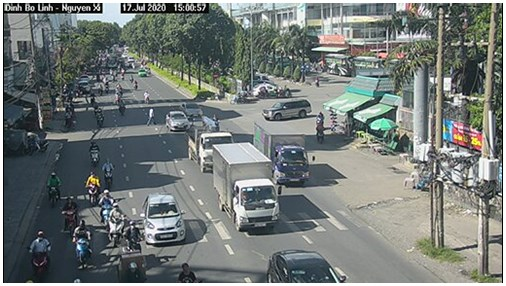di_bo: (146, 106, 159, 129)
xe_hoi: (262, 247, 353, 284), (139, 193, 188, 244), (260, 99, 313, 121), (163, 110, 191, 133), (180, 101, 204, 121)
xe_may: (70, 217, 93, 268), (29, 228, 52, 278), (107, 200, 125, 248), (61, 195, 82, 232), (43, 171, 64, 207), (82, 169, 100, 204), (123, 220, 141, 252), (175, 261, 201, 283), (100, 155, 115, 188), (97, 187, 111, 222), (88, 140, 103, 165), (63, 108, 77, 133), (94, 107, 107, 127), (314, 123, 326, 144), (117, 100, 129, 117)
xe_tai: (209, 142, 278, 233), (251, 120, 315, 190), (186, 127, 234, 172)
